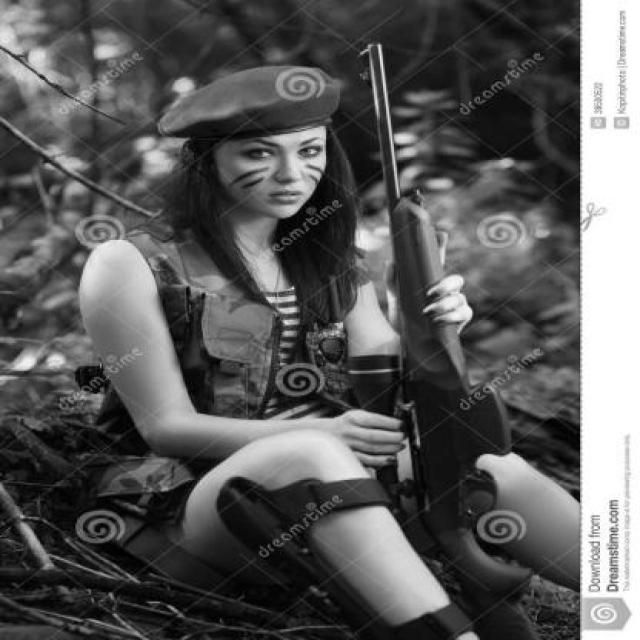weapon: (364, 39, 536, 621)
